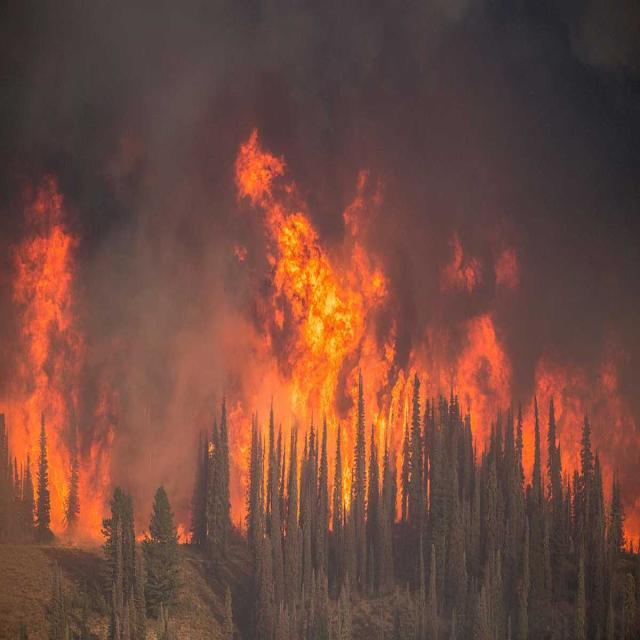Fire: (234, 143, 397, 511), (6, 203, 113, 538), (412, 302, 520, 484), (508, 356, 590, 502), (608, 490, 640, 556)
Smoke: (300, 8, 640, 328), (39, 21, 252, 388)
